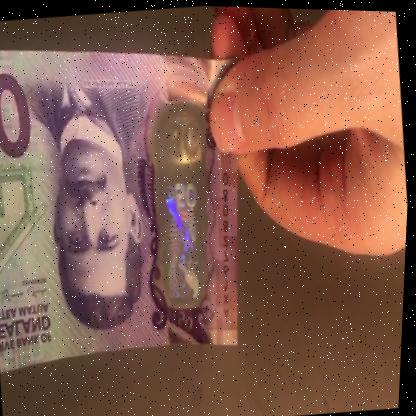50F: (145, 110, 222, 307)
